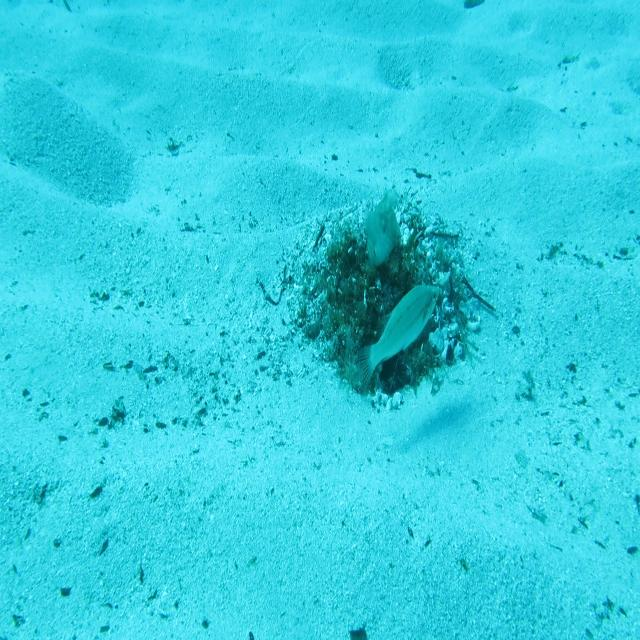NIP_CORE: (362, 183, 404, 274)
core_nest: (346, 244, 404, 294)
female: (352, 281, 441, 398)
nest: (276, 191, 489, 431)
vegetation: (461, 0, 487, 14)
